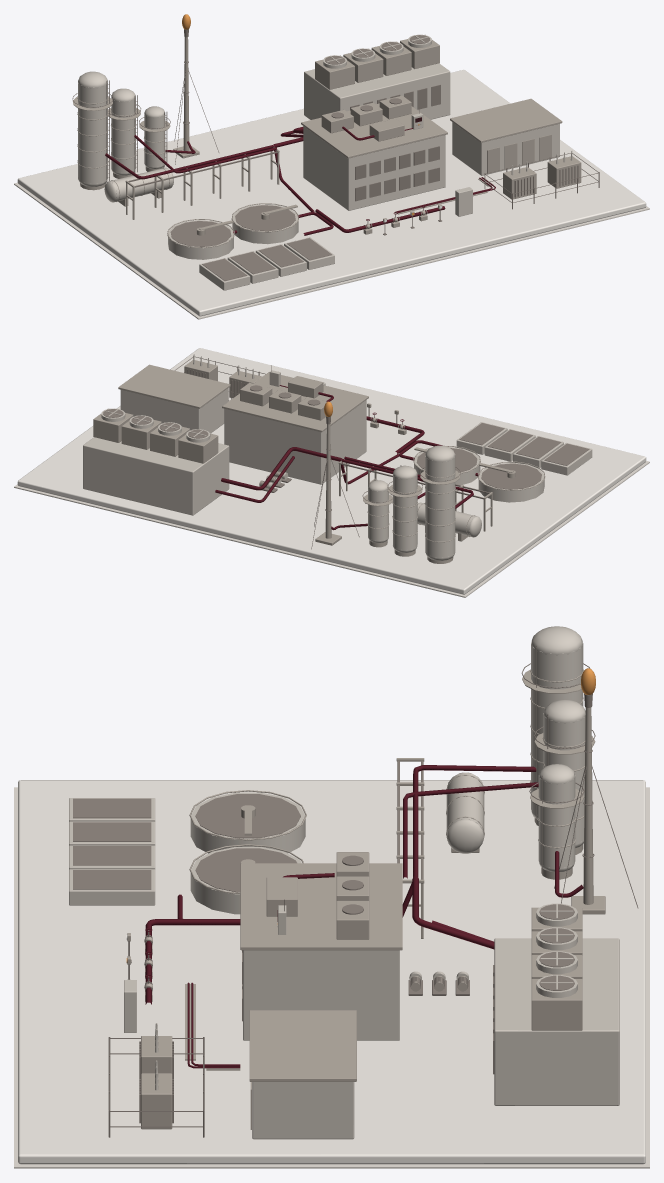
Rendered from plant.glb.
3 views of the same model, one above another, from view 1: azimuth 30°, elevation 25°; view 2: azimuth 150°, elevation 25°; view 3: azimuth 270°, elevation 25° (orthographic). The views are drawn at different scales.
Parts seen in each view (by area): view 1: base-ground, zone-oil-gas-light, zone-substation-mid, zone-office-bms-light, zone-district-cooling-light, zone-office-bms-mid, zone-water-treatment-dark, zone-water-treatment-light, zone-oil-gas-mid, zone-district-cooling-mid, zone-substation-light, base-dim (+8 smaller); view 2: base-ground, zone-district-cooling-light, zone-oil-gas-light, zone-office-bms-light, zone-office-bms-mid, zone-water-treatment-dark, zone-substation-mid, zone-water-treatment-light, zone-district-cooling-mid, zone-oil-gas-mid, zone-substation-light, base-dim (+5 smaller); view 3: base-ground, zone-district-cooling-light, zone-office-bms-mid, zone-oil-gas-light, zone-water-treatment-dark, zone-substation-mid, zone-office-bms-light, zone-water-treatment-light, base-dim, zone-substation-light, zone-oil-gas-mid, zone-district-cooling-mid (+6 smaller).
Boxes of the visible parts, box(x1,y1,x2,y2) form: base-ground: box(17, 69, 646, 316); zone-oil-gas-light: box(78, 71, 173, 202); zone-substation-mid: box(395, 98, 581, 214); zone-office-bms-light: box(303, 126, 445, 210); zone-district-cooling-light: box(304, 34, 450, 119); zone-office-bms-mid: box(301, 95, 447, 158); zone-water-treatment-dark: box(170, 205, 331, 280); zone-water-treatment-light: box(168, 204, 334, 290); zone-oil-gas-mid: box(73, 37, 279, 219); zone-district-cooling-mid: box(315, 34, 439, 89); zone-substation-light: box(452, 122, 572, 175); base-dim: box(14, 182, 649, 319); base-ground: box(17, 348, 646, 594); zone-district-cooling-light: box(83, 408, 287, 515); zone-oil-gas-light: box(368, 445, 481, 560); zone-office-bms-light: box(224, 400, 366, 484); zone-office-bms-mid: box(222, 372, 368, 432); zone-water-treatment-dark: box(416, 423, 589, 489); zone-substation-mid: box(118, 360, 262, 408); zone-water-treatment-light: box(414, 422, 592, 502); zone-district-cooling-mid: box(93, 408, 281, 487); zone-oil-gas-mid: box(315, 424, 492, 563); zone-substation-light: box(120, 354, 254, 433); base-dim: box(14, 461, 649, 597); base-ground: box(18, 780, 645, 1164); zone-district-cooling-light: box(409, 903, 619, 1105); zone-office-bms-mid: box(240, 852, 402, 950); zone-oil-gas-light: box(446, 626, 585, 871); zone-water-treatment-dark: box(73, 794, 300, 892); zone-substation-mid: box(141, 984, 356, 1129); zone-office-bms-light: box(243, 950, 399, 1040); zone-water-treatment-light: box(69, 792, 305, 914); base-dim: box(14, 787, 649, 1168); zone-substation-light: box(155, 1023, 354, 1139); zone-oil-gas-mid: box(396, 669, 605, 938); zone-district-cooling-mid: box(410, 907, 582, 1030).
Bounding box in the file's own units: 34.3 × 10.57 × 24.3.
